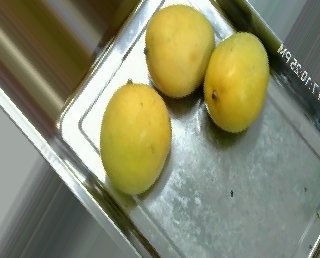Mango: (98, 84, 168, 192), (202, 31, 268, 132), (146, 4, 215, 95)
